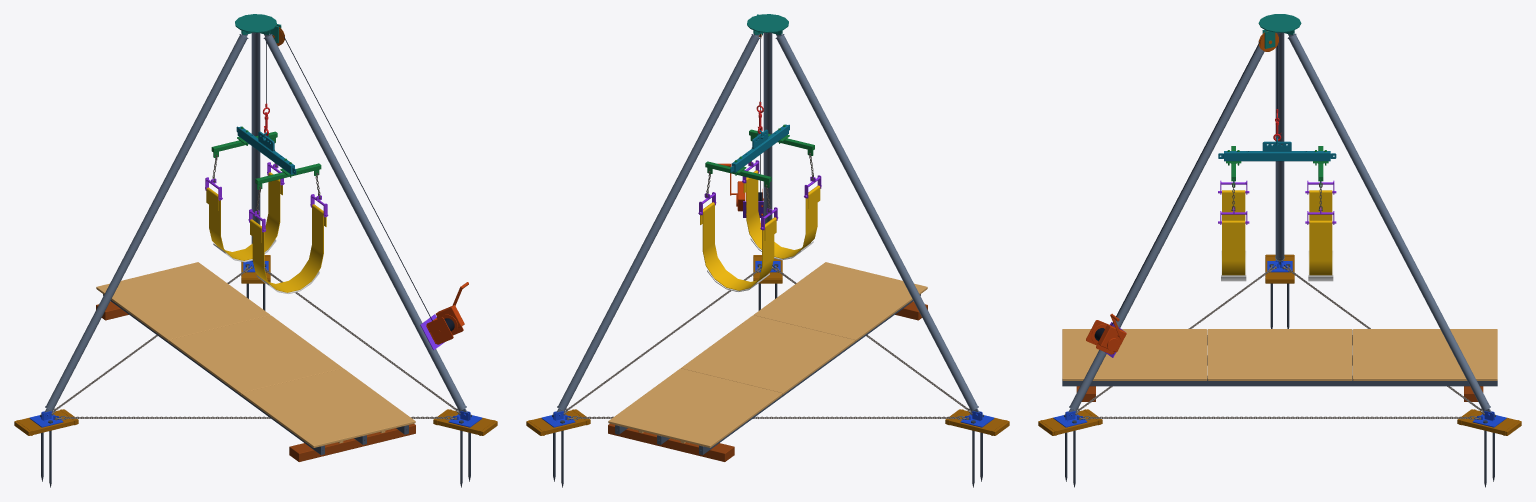
The picture shows the model from 3 angles, left to right: view 1: azimuth 30°, elevation 25°; view 2: azimuth 150°, elevation 25°; view 3: azimuth 270°, elevation 25°; orthographic projection.
Parts seen in each view (by area): view 1: Deck panels (3), Tripod legs (3), Webbing bands (2), Ground pads (3), Spread chains (3), Rim bearers (2), Hand winch with load brake, Spreader cross bars (2), Spreader main beam, Tripod head, Ground stakes (6), Foot plates (3) (+3 smaller); view 2: Deck panels (3), Tripod legs (3), Webbing bands (2), Ground pads (3), Spread chains (3), Rim bearers (2), Spreader cross bars (2), Spreader main beam, Ground stakes (6), Foot plates (3), Bridge runners (3), Tripod head (+1 smaller); view 3: Deck panels (3), Tripod legs (3), Webbing bands (2), Bridge runners (3), Ground pads (3), Spread chains (3), Spreader main beam, Ground stakes (6), Foot plates (3), Hand winch with load brake, Tripod head, Band end yokes (4) (+2 smaller).
Boxes of the visible parts, x1,y1,x2,y2 form: Deck panels (3): (96,262,415,447); Tripod legs (3): (44,32,467,412); Webbing bands (2): (206,172,326,292); Ground pads (3): (14,255,497,435); Spread chains (3): (51,265,460,420); Rim bearers (2): (96,301,415,461); Hand winch with load brake: (426,282,468,344); Spreader cross bars (2): (211,126,321,189); Spreader main beam: (236,126,296,174); Tripod head: (235,14,281,43); Ground stakes (6): (40,264,471,487); Foot plates (3): (29,260,482,427); Deck panels (3): (608,262,927,447); Tripod legs (3): (556,32,979,412); Webbing bands (2): (700,170,820,290); Ground pads (3): (526,255,1009,435); Spread chains (3): (563,265,972,420); Rim bearers (2): (608,301,927,461); Spreader cross bars (2): (705,124,814,187); Spreader main beam: (730,124,789,172); Ground stakes (6): (552,264,983,487); Foot plates (3): (541,261,994,427); Bridge runners (3): (615,294,920,455); Tripod head: (747,14,788,35); Deck panels (3): (1062,329,1497,380); Tripod legs (3): (1068,32,1491,412); Webbing bands (2): (1222,190,1332,275); Bridge runners (3): (1062,335,1497,386); Ground pads (3): (1038,254,1521,435); Spread chains (3): (1075,265,1484,420); Spreader main beam: (1218,137,1336,161); Ground stakes (6): (1064,264,1495,487); Foot plates (3): (1053,260,1506,427); Hand winch with load brake: (1086,313,1126,354); Tripod head: (1258,14,1301,48); Band end yokes (4): (1218,180,1336,224).
Size of the model in its own units: 4.37 by 4.68 by 5.
